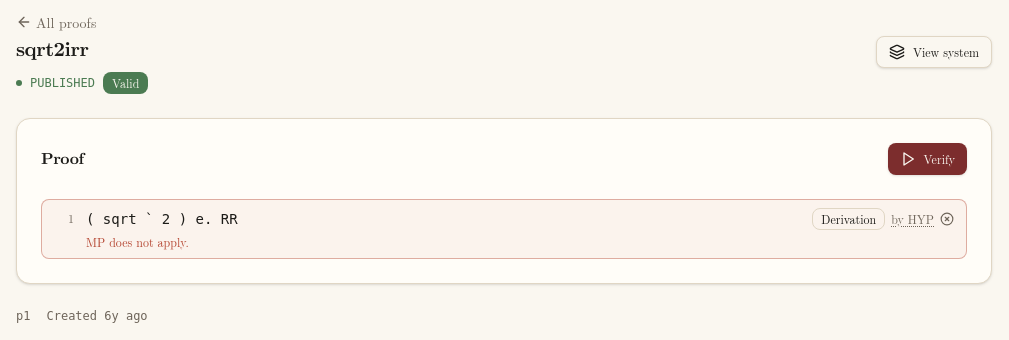
the proof detail page › drops the previous check’s lines when a new verdict arrives
expect the text "MP does not apply." is shown: met, box [86,233,189,250]
Click the button "Verify".
click(927, 159)  # box [888,143,967,175]
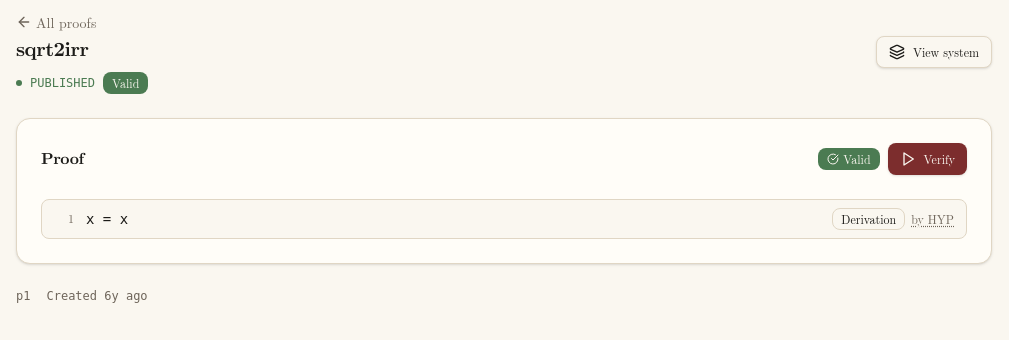
expect the text "x = x" is shown: met, box [86,211,128,227]
expect the text "MP does not apply." is gone: met
